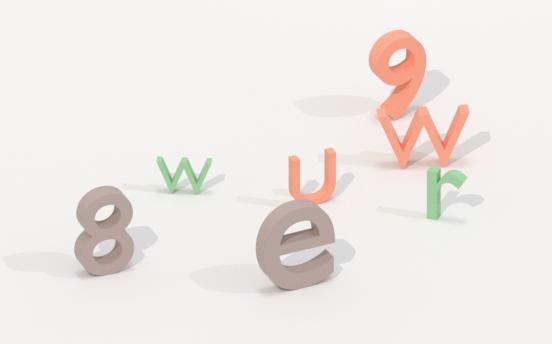8: (72, 181, 136, 279)
9: (365, 26, 429, 121)
R: (422, 164, 471, 224)
e: (253, 197, 337, 296)
u: (288, 142, 337, 208)
w: (372, 100, 472, 174), (154, 151, 214, 199)
